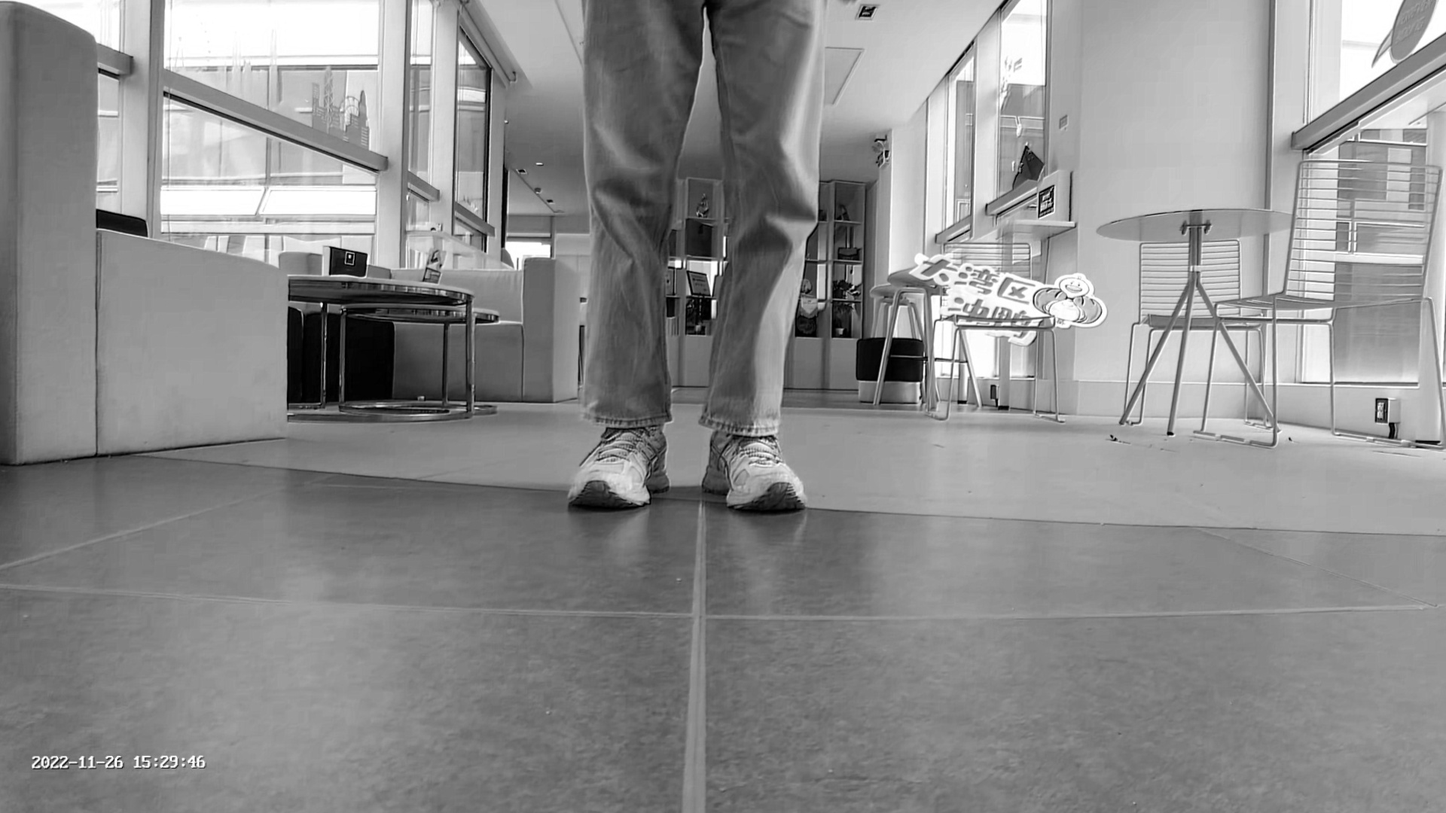person: (557, 0, 840, 515)
